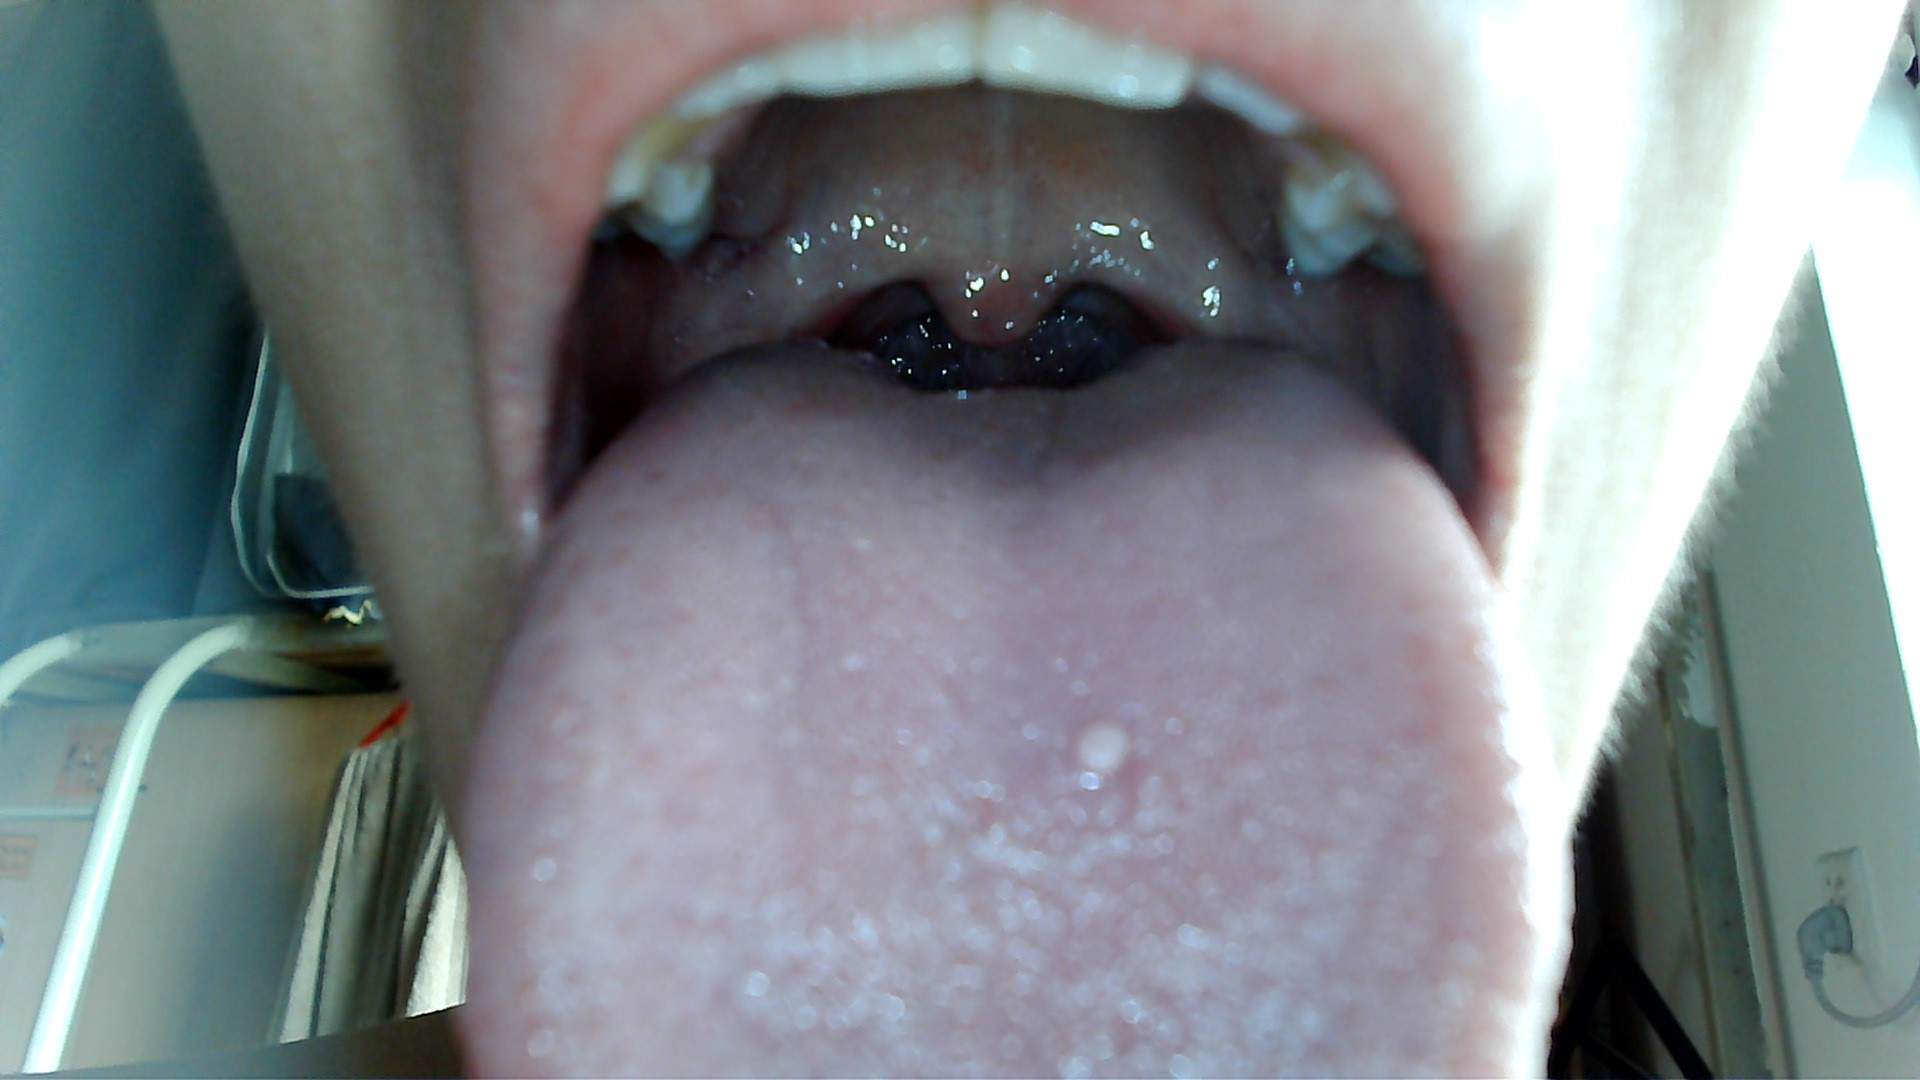throat: (1110, 240, 1250, 348), (731, 244, 874, 348)
